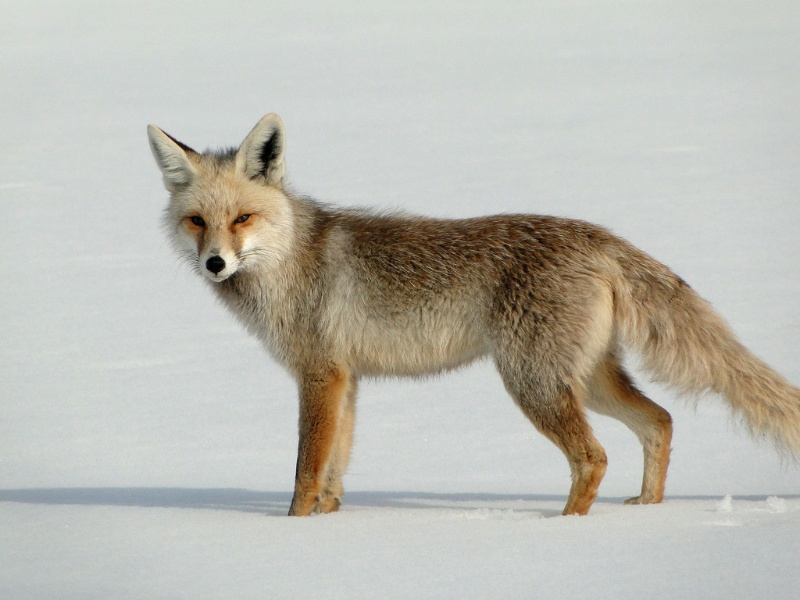fox: (146, 110, 800, 517)
